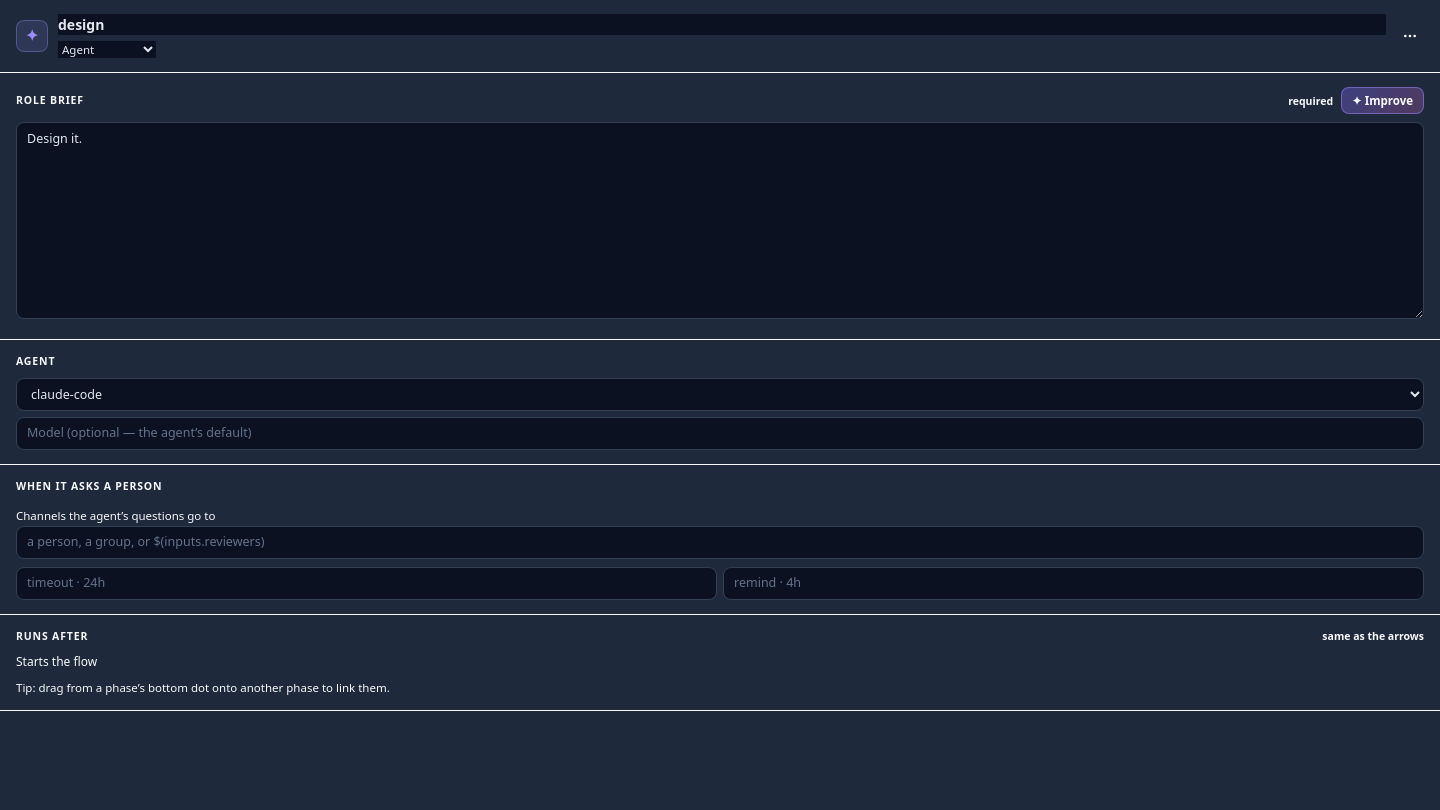
Phase_panel › improve errors show inline
The width and height of the screenshot is (1440, 810).
Click the button "✦ Improve" at {"x": 1383, "y": 101}, box [1341,87,1424,114]
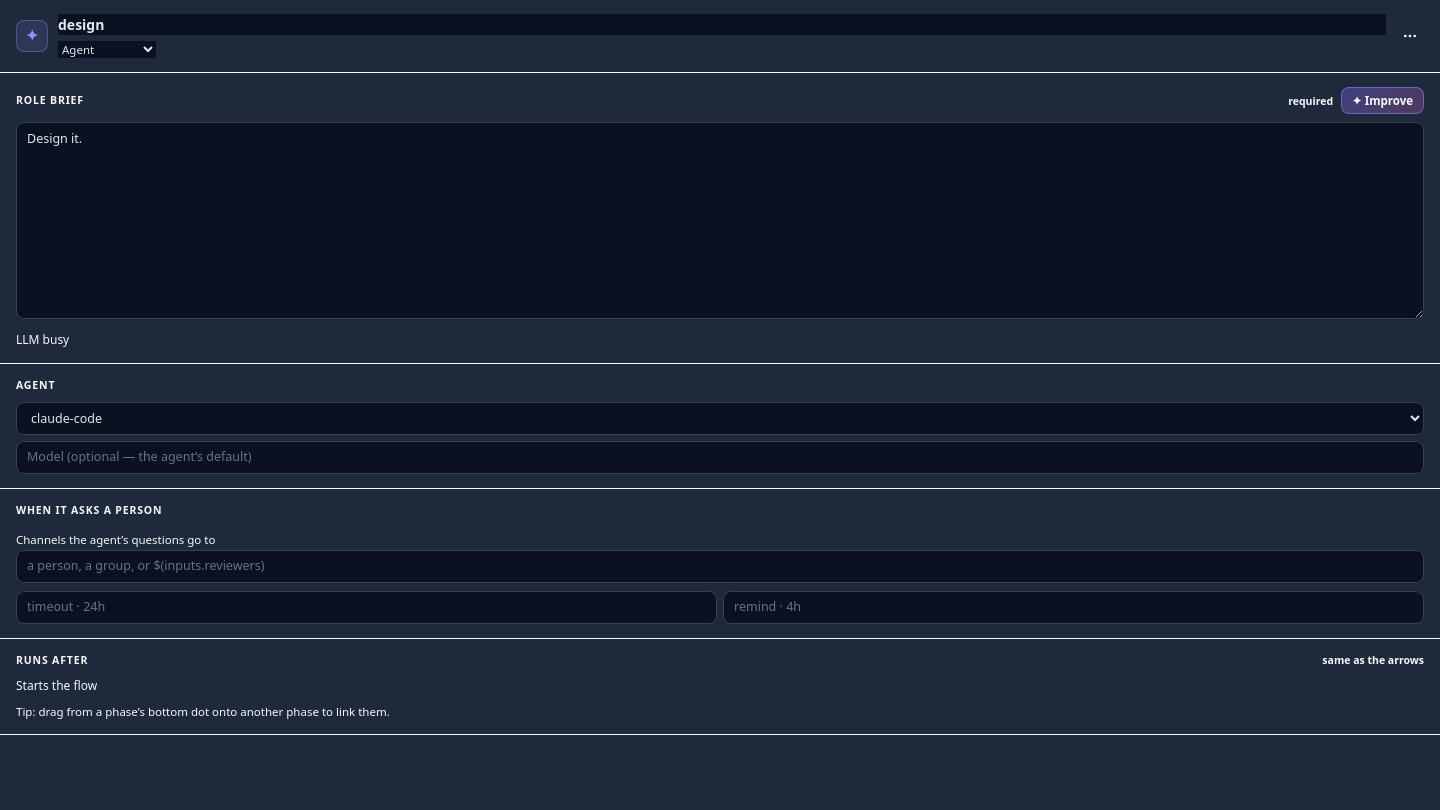
Expected: the message reads "LLM busy", [16,331,69,348]
